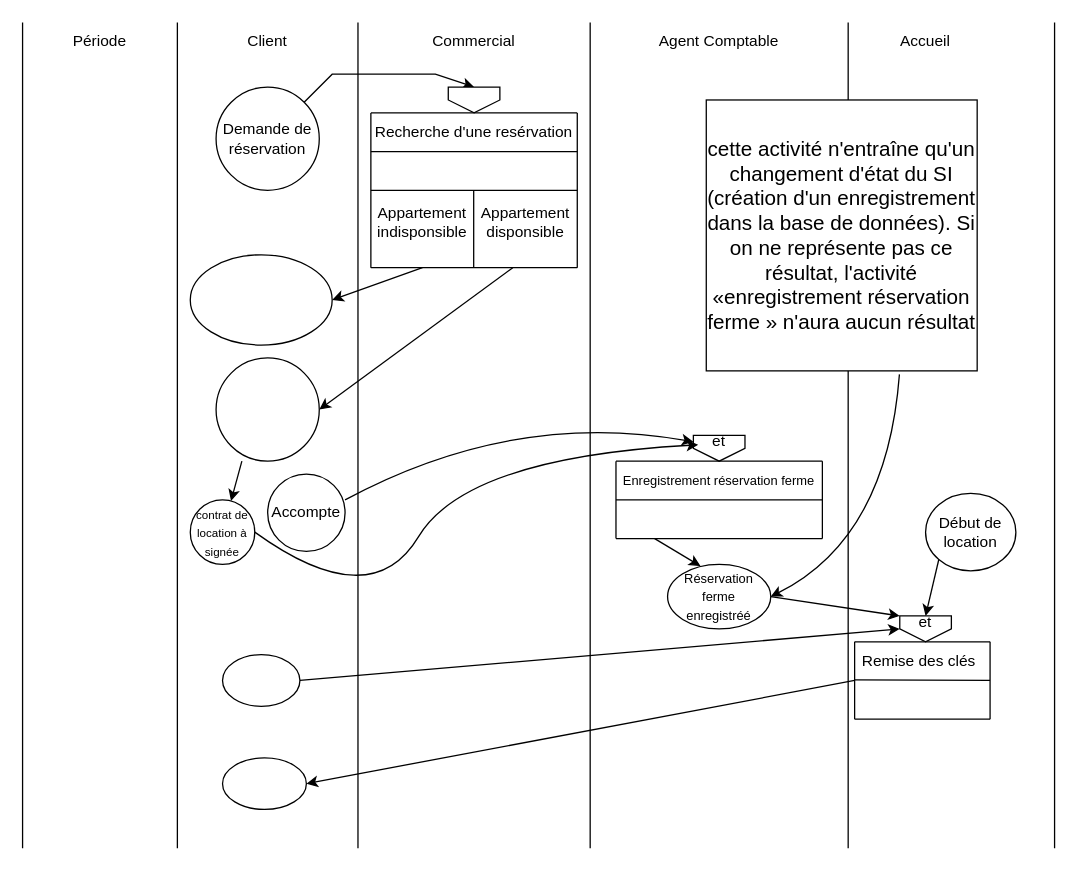
Image size: 1078x872. Some labels were removed from this diagram. Each missing label, with the centre of its shape:
Clés: the point at 263,783
Contrat de location à signer: the point at 267,409
Liste d'agences susceptibles de répondre au besoin du client: the point at 260,299
Solde: the point at 260,679
